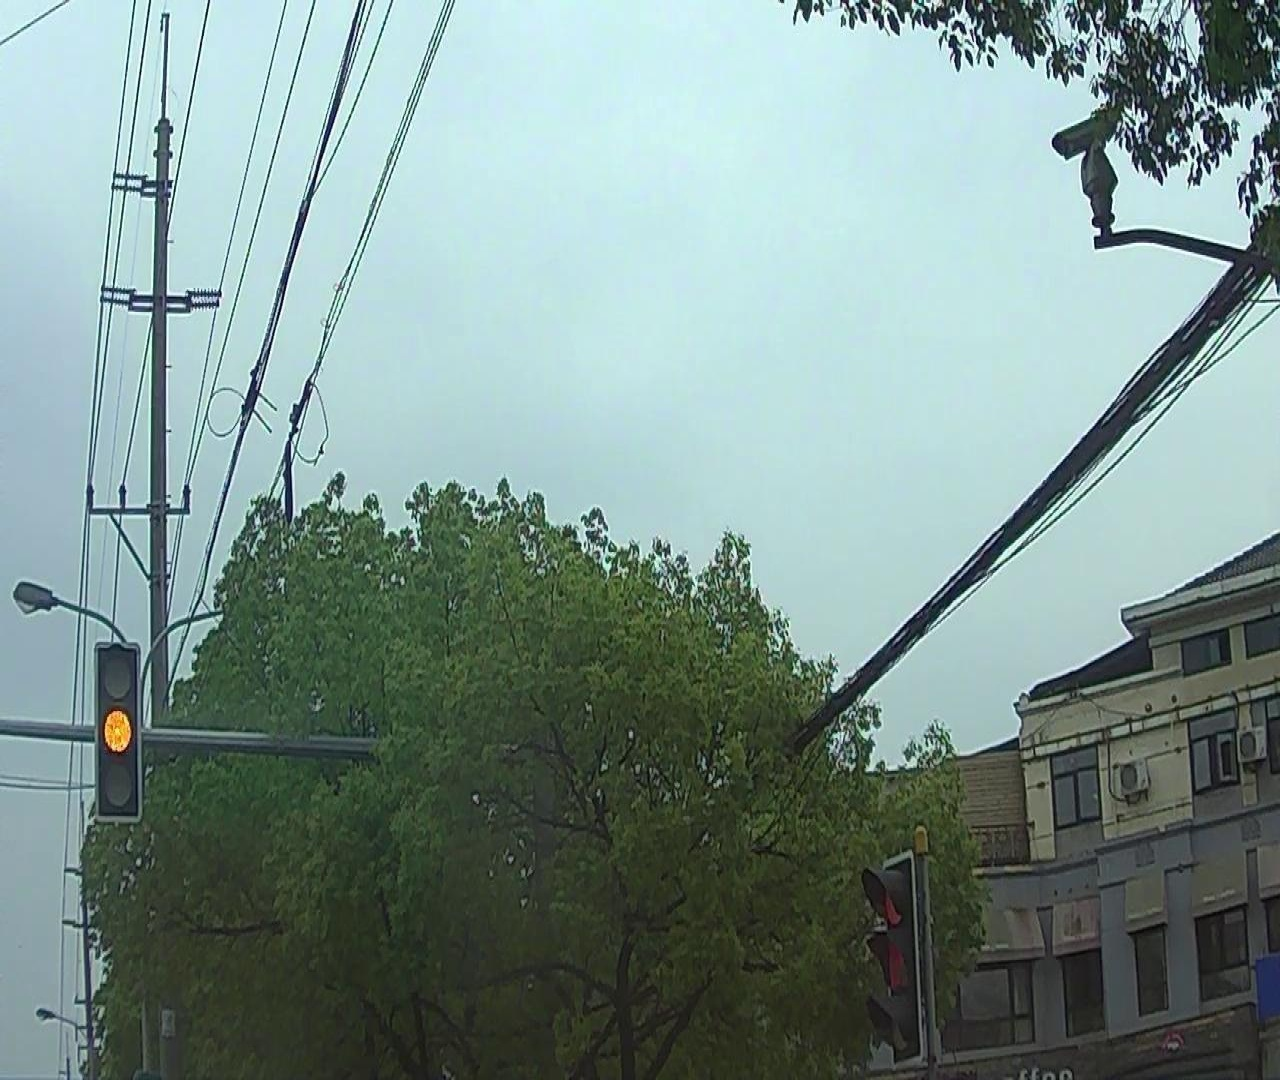yellow: (97, 643, 141, 816)
